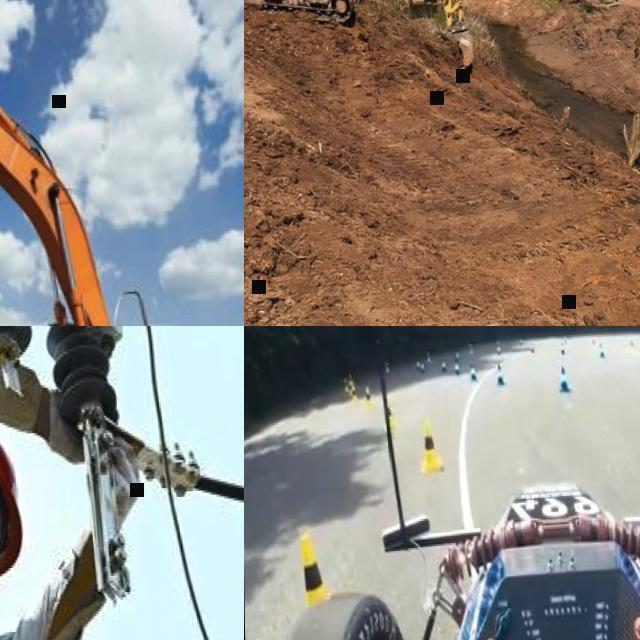helmet: (0, 413, 27, 583)
machinery: (0, 0, 244, 326), (244, 0, 477, 88)
person: (0, 326, 166, 640)
safety_cone: (282, 530, 357, 640), (418, 415, 446, 474), (380, 394, 396, 431), (558, 364, 572, 396), (363, 384, 374, 415), (559, 340, 568, 362), (496, 360, 504, 384), (351, 388, 359, 412), (343, 378, 352, 396), (348, 370, 356, 390), (472, 360, 478, 380), (454, 359, 460, 379), (599, 342, 605, 359), (442, 360, 448, 376), (420, 364, 426, 378)
vehicle: (244, 326, 640, 640)
